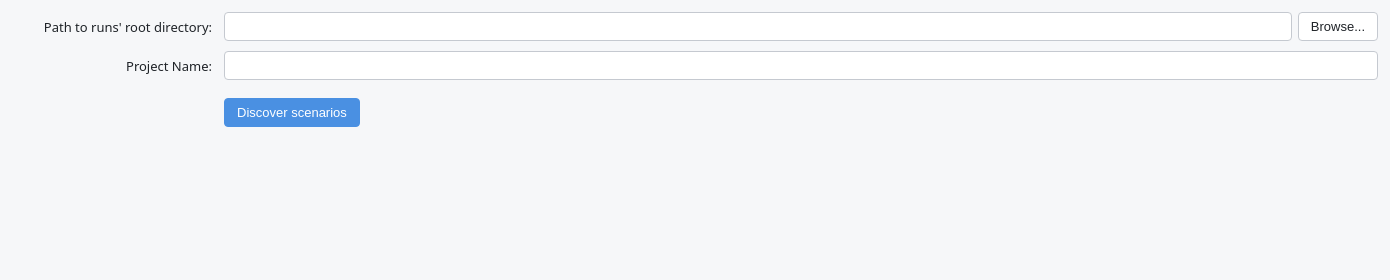
Test: ChartsForm progressive UI › renders a tidy 'Skipped folders' block when the response includes skipped names
Type "C:/runs" into the field labelled "Path to runs' root directory:" at (758, 26), box [224,12,1292,41]
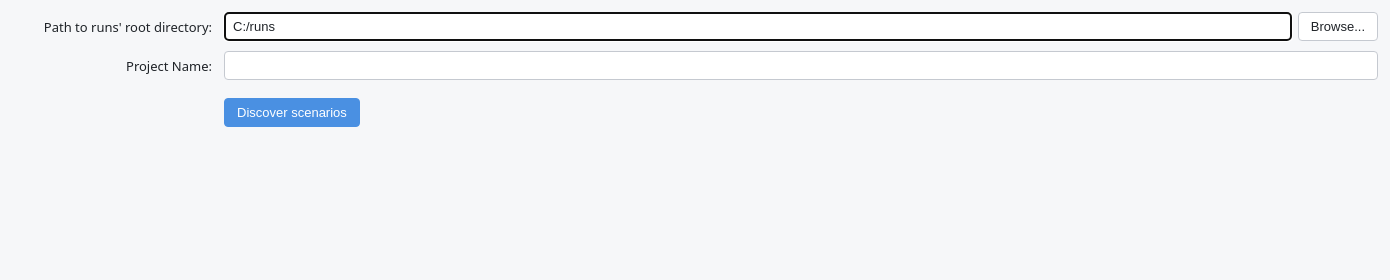
Type "Test" into the field labelled "Project Name:" at (801, 66), box [224,51,1378,80]
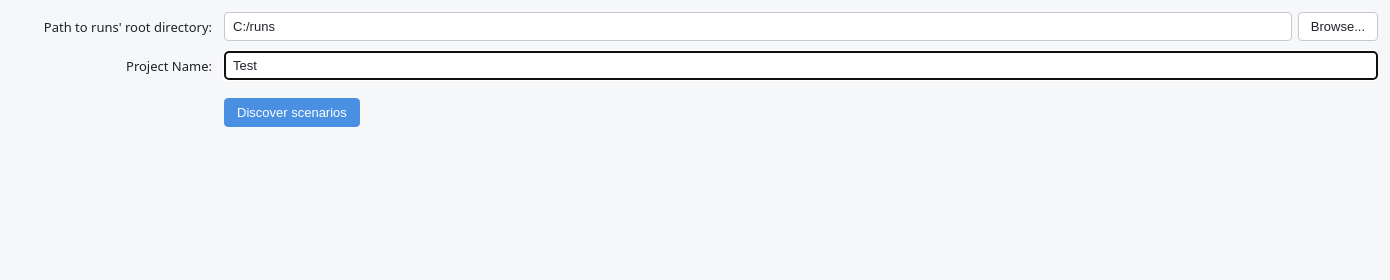
Click the button "Discover scenarios" at (292, 112), box [224,98,360,127]
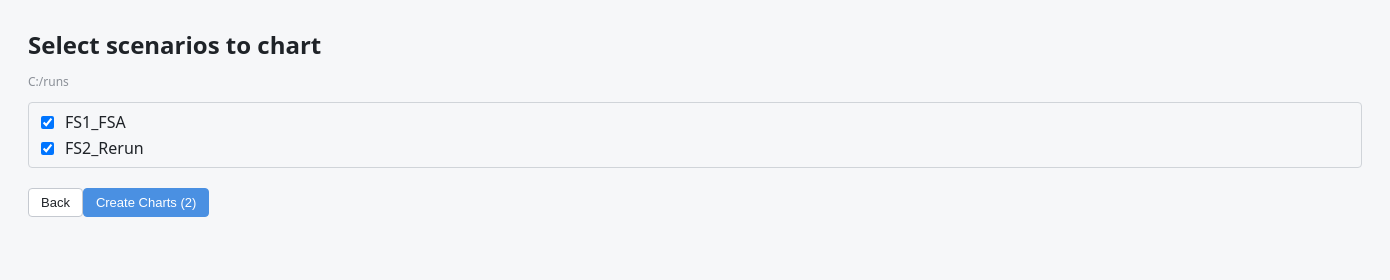
Now the button "Create Charts (2)" is shown
Click the button "Create Charts (2)" at (146, 202), box [83,188,209,217]
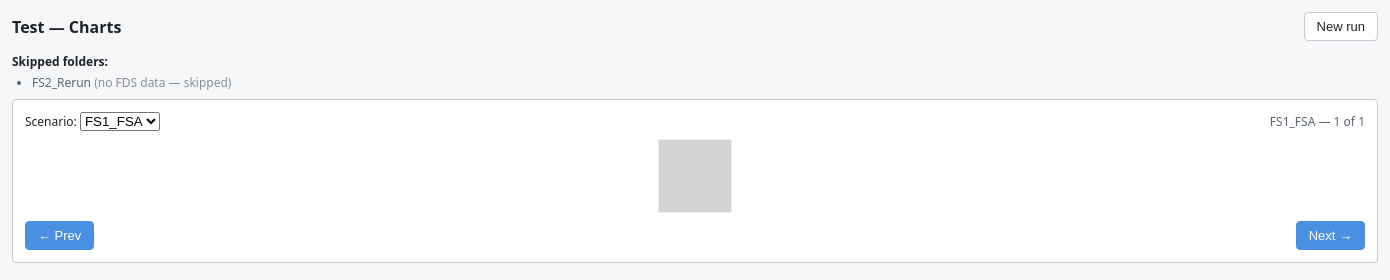
Now the button "New run" is shown, box [1304,12,1378,41]
Now the text "Skipped folders:" is shown, box [12,53,108,70]
Now the list item "FS2_Rerun" is shown, box [32,74,91,91]
